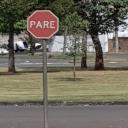Pare: (27, 10, 60, 39)
